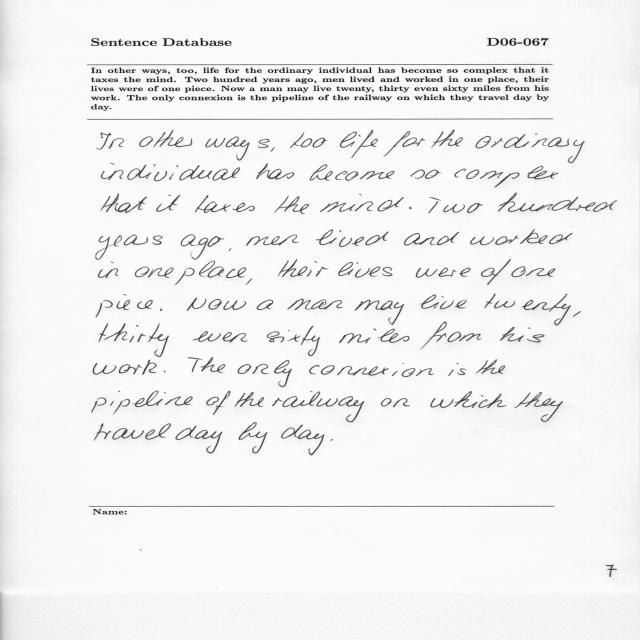word: (476, 134, 585, 164), (272, 391, 364, 422), (484, 294, 571, 326), (175, 249, 246, 285), (102, 163, 240, 181), (99, 323, 169, 357), (92, 391, 193, 414), (455, 166, 559, 188), (498, 193, 617, 212), (309, 363, 434, 377), (96, 234, 163, 260), (420, 322, 482, 350), (470, 229, 573, 245), (267, 326, 320, 356), (205, 137, 270, 161), (320, 194, 404, 212), (514, 392, 563, 422), (238, 360, 292, 387), (310, 164, 395, 181), (281, 425, 325, 455), (176, 426, 223, 454), (316, 229, 389, 247), (96, 294, 153, 317), (94, 424, 171, 441), (431, 391, 507, 408), (355, 300, 404, 325), (383, 131, 425, 157), (195, 195, 255, 213), (340, 130, 378, 158), (340, 329, 410, 344), (93, 360, 157, 375), (101, 193, 147, 213), (139, 130, 192, 147), (278, 259, 328, 277), (428, 197, 483, 213), (239, 423, 268, 453), (339, 262, 393, 278), (481, 259, 511, 285), (187, 298, 246, 311), (500, 327, 545, 343), (404, 232, 459, 245), (420, 295, 467, 310), (181, 234, 208, 260), (193, 331, 248, 343), (256, 163, 294, 180), (274, 196, 309, 214), (246, 234, 298, 246), (188, 357, 226, 373), (416, 267, 471, 278), (288, 299, 343, 310), (431, 130, 463, 148), (207, 391, 231, 415), (511, 267, 556, 278), (97, 133, 124, 150), (476, 359, 505, 374), (235, 392, 264, 407), (135, 267, 174, 278), (156, 195, 180, 212), (290, 132, 312, 148), (99, 262, 119, 278), (410, 169, 441, 179), (381, 398, 410, 407), (448, 363, 466, 376), (207, 236, 225, 247), (257, 299, 273, 310), (313, 138, 328, 148), (573, 311, 581, 317), (246, 278, 252, 285), (271, 147, 275, 152), (409, 206, 412, 209), (160, 308, 162, 311), (330, 439, 333, 441), (164, 371, 166, 373)
